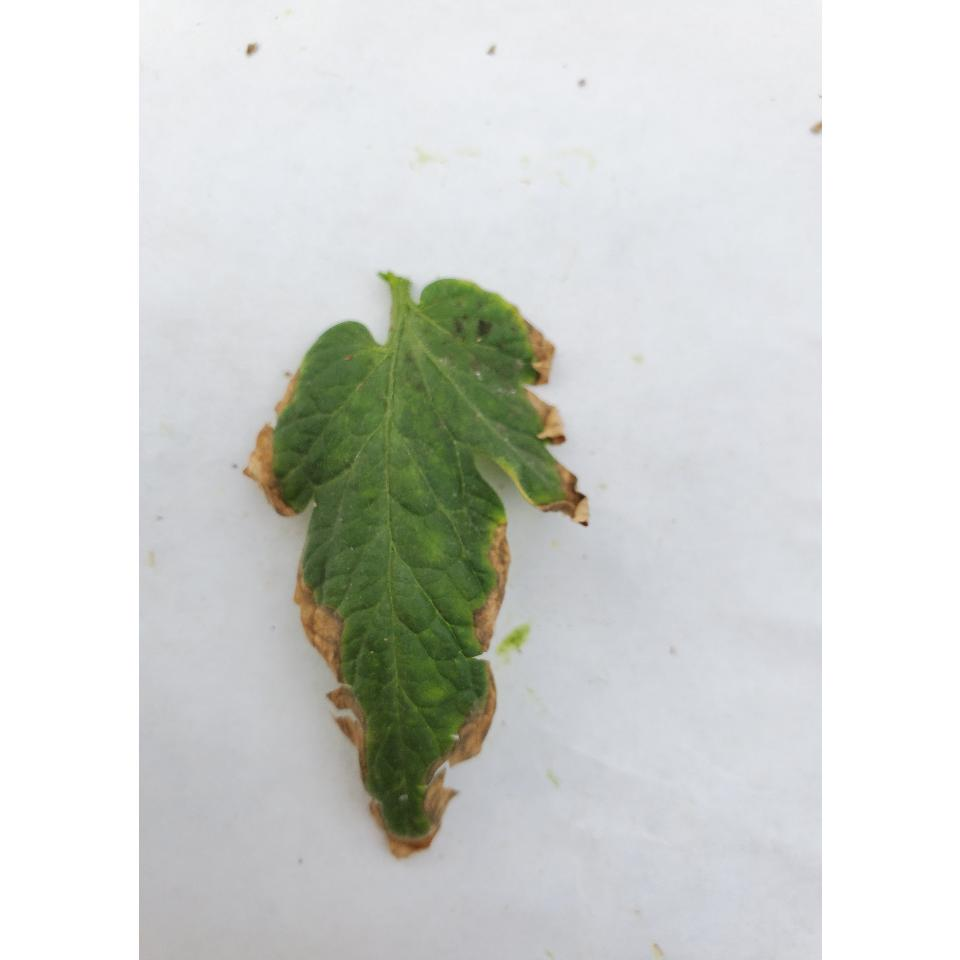tomato_bacterial_blight: (207, 250, 605, 860)
